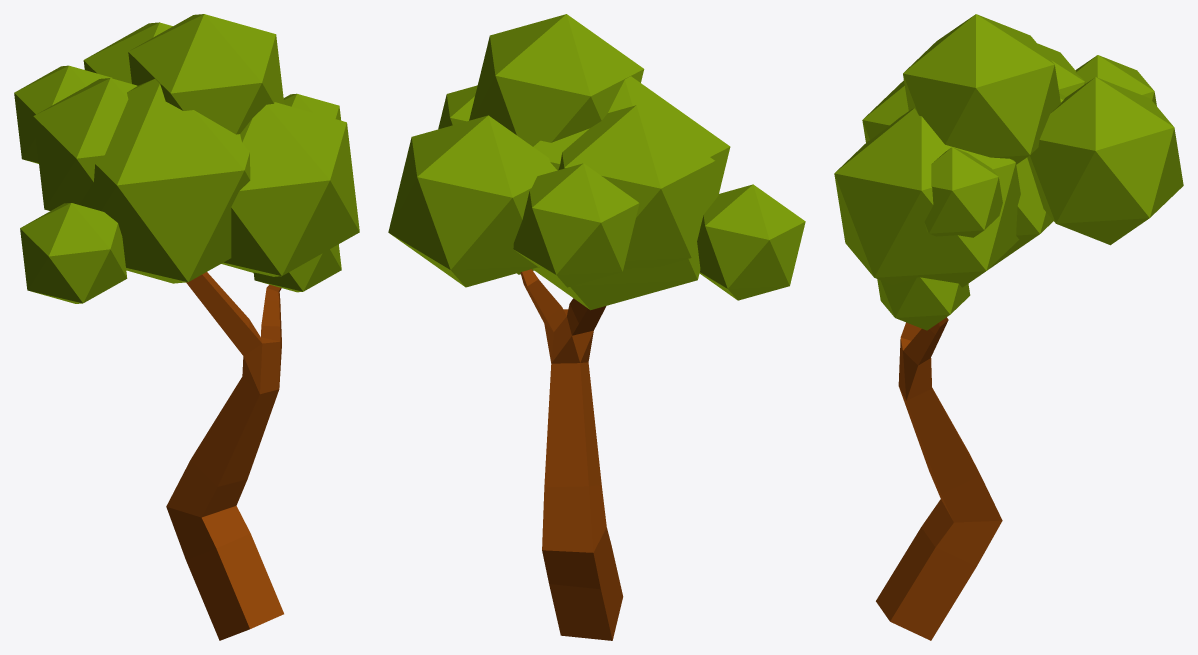
The model's file is tree001.fbx.
The picture shows the model from 3 angles, left to right: view 1: azimuth 30°, elevation 25°; view 2: azimuth 150°, elevation 25°; view 3: azimuth 270°, elevation 25°; orthographic projection. The views are drawn at different scales.
Parts seen in each view (by area): view 1: Icosphere, Cube; view 2: Icosphere, Cube; view 3: Icosphere, Cube.
Part boxes in pixels (x1,y1,x2,y2): Icosphere: (14, 14, 359, 303); Cube: (166, 272, 283, 640); Icosphere: (388, 14, 805, 310); Cube: (520, 269, 623, 640); Icosphere: (834, 14, 1183, 330); Cube: (876, 317, 1002, 640).
Bounding box in the file's own units: 3.44 × 3.23 × 6.26.
